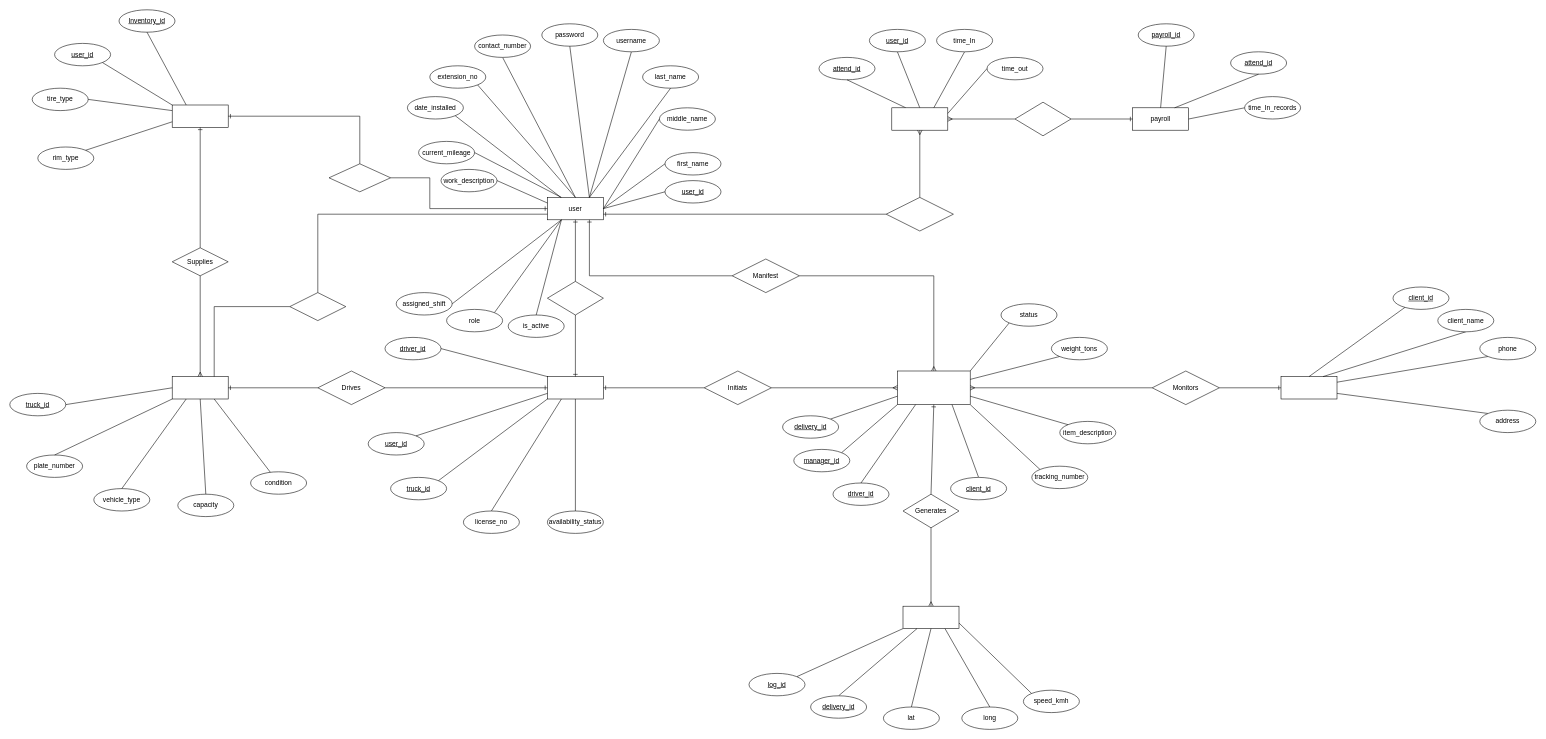
Image size: 1546x739. Some labels were removed from this diagram. Each missing label, with the box of its shape:
attendance: (891, 107, 948, 130)
Client: (1280, 376, 1337, 399)
delivery: (897, 370, 970, 405)
driver: (547, 376, 603, 399)
Fullfills: (547, 281, 603, 315)
Inventory: (172, 104, 228, 127)
location_logs: (902, 606, 959, 629)
Maintains: (289, 292, 346, 321)
Manages: (328, 163, 391, 192)
Records: (886, 197, 953, 231)
Truck: (172, 376, 228, 399)
Validates: (1014, 102, 1071, 136)
